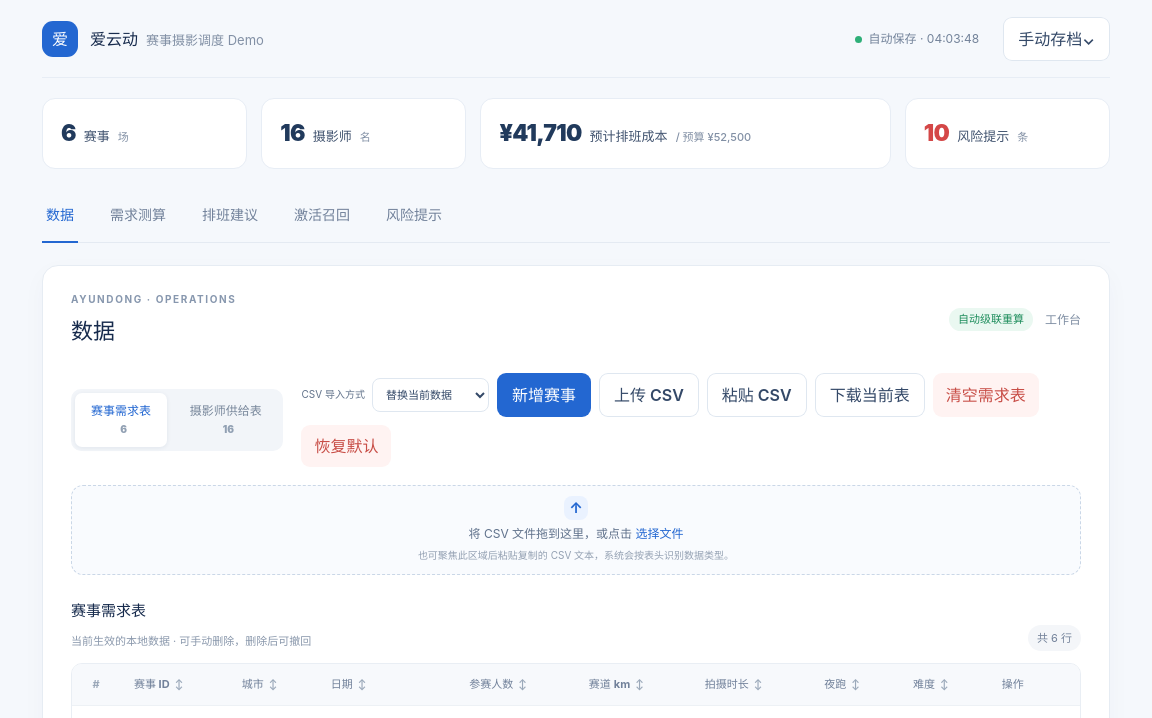
M4 data management page › reads copied photographer CSV from the clipboard, identifies it and imports to that table
The width and height of the screenshot is (1152, 718).
Click the button "粘贴 CSV". click: x=757, y=394
box: [707, 372, 807, 416]
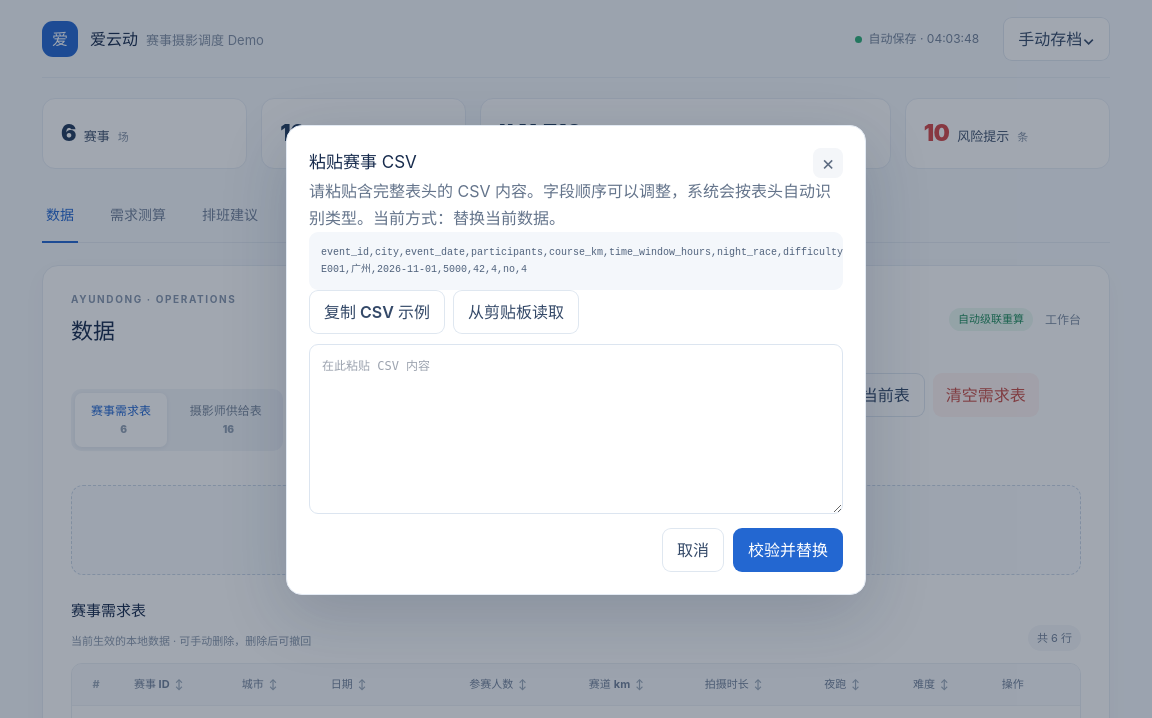
Click the button "从剪贴板读取". click: x=516, y=312
box: [453, 290, 579, 334]
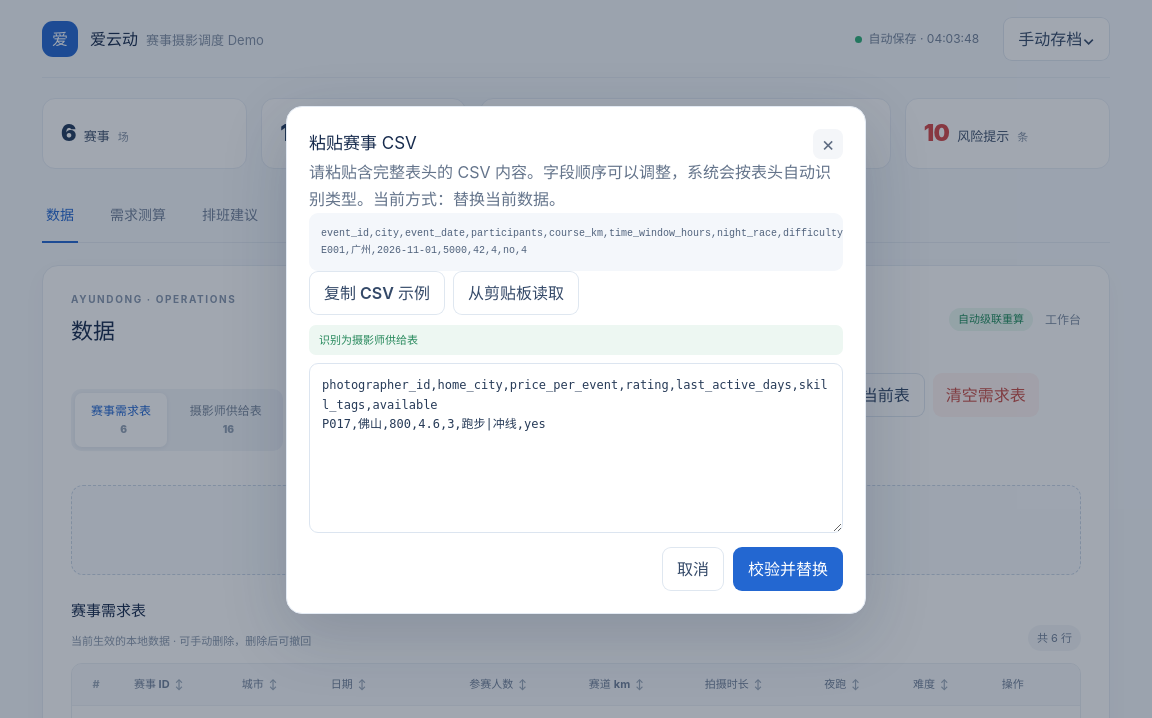
Result: the text "识别为摄影师供给表" is shown at [309, 325, 843, 355]
Click the button "校验并替换". click: x=788, y=569
box: [733, 547, 843, 591]
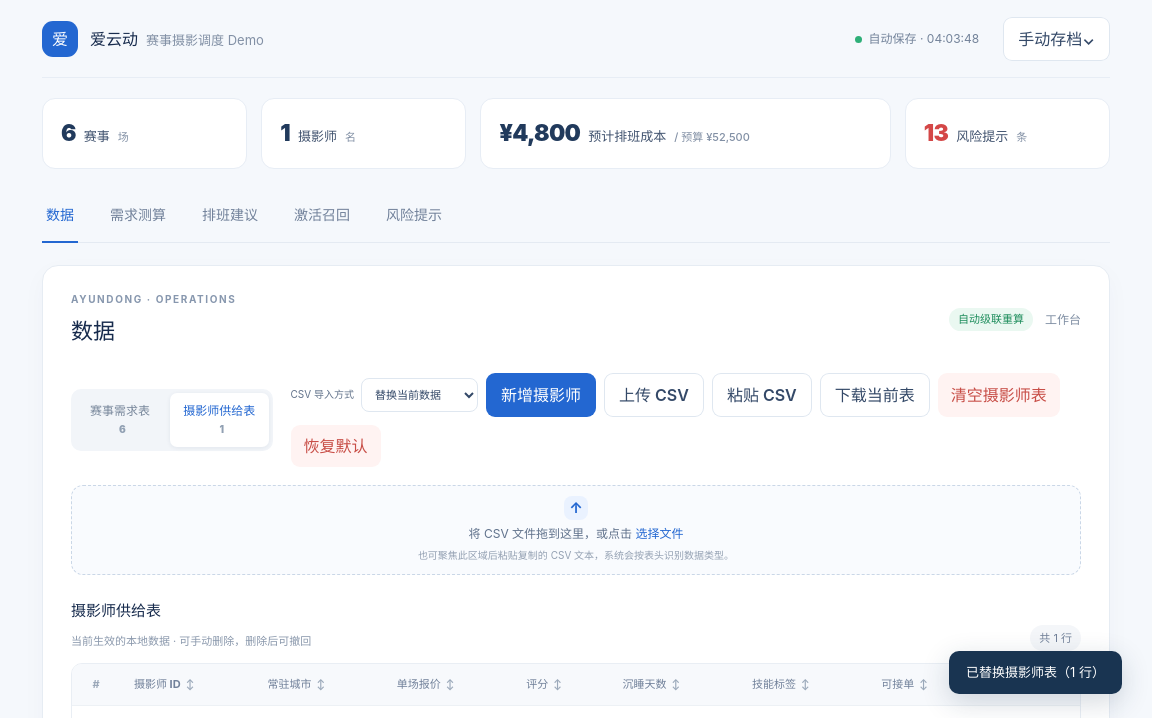
Result: the text "共 1 行" is shown at [1030, 624, 1081, 651]
